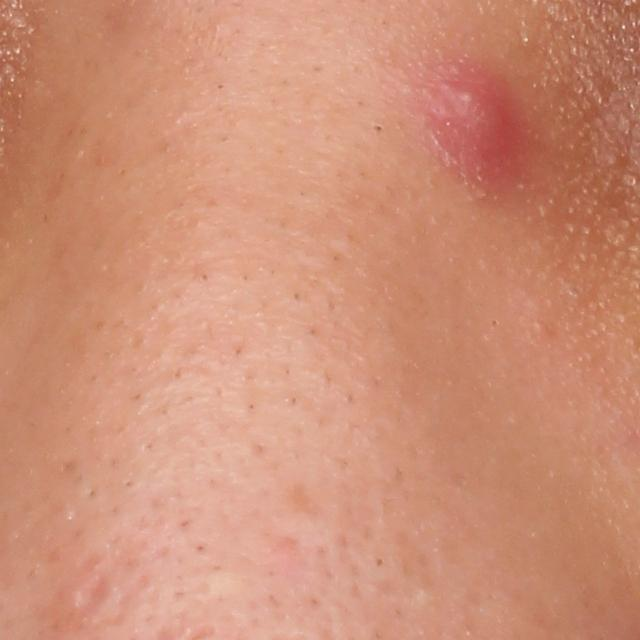atrophic_scar: (72, 569, 111, 629), (284, 475, 323, 530)
papule: (426, 45, 524, 184)
